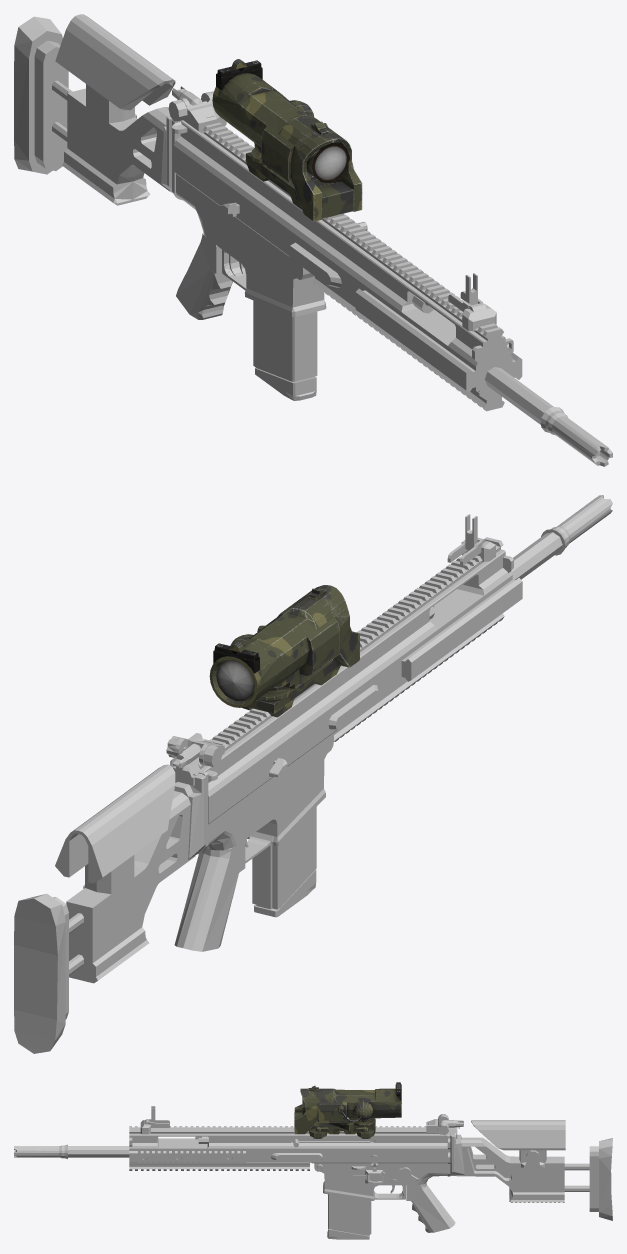
Rendered from T_Mk20_GUN_1.fbx.
3 renders of one model, top to bottom at view 1: azimuth 30°, elevation 25°; view 2: azimuth 150°, elevation 25°; view 3: azimuth 270°, elevation 25°, orthographic. The views are drawn at different scales.
Visible parts, largest first — view 1: MT_mk20_Request, MT_mk20_Request_Scope, Mag; view 2: MT_mk20_Request, MT_mk20_Request_Scope, Mag; view 3: MT_mk20_Request, MT_mk20_Request_Scope, Mag.
Part boxes in pixels (box(x1,y1,x2,y2)): MT_mk20_Request: box(14, 14, 612, 466); MT_mk20_Request_Scope: box(212, 59, 362, 221); Mag: box(253, 300, 317, 400); MT_mk20_Request: box(14, 495, 612, 1053); MT_mk20_Request_Scope: box(209, 585, 359, 717); Mag: box(252, 807, 316, 917); MT_mk20_Request: box(14, 1106, 612, 1232); MT_mk20_Request_Scope: box(294, 1082, 401, 1138); Mag: box(327, 1194, 371, 1239).
Size of the model in its own units: 12.95 by 49.37 by 176.
